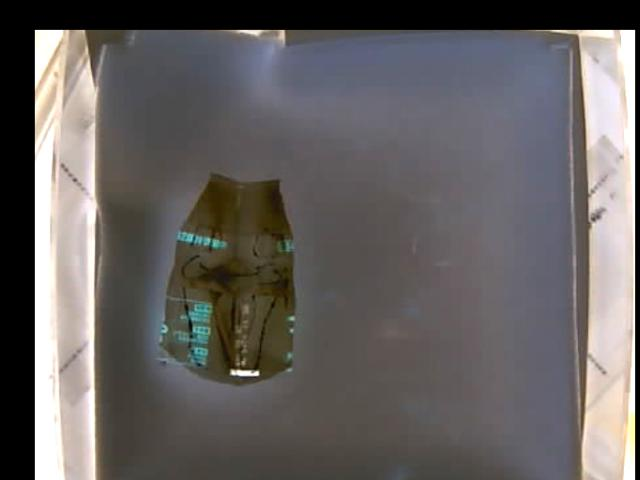Bottle: (156, 172, 301, 388)
